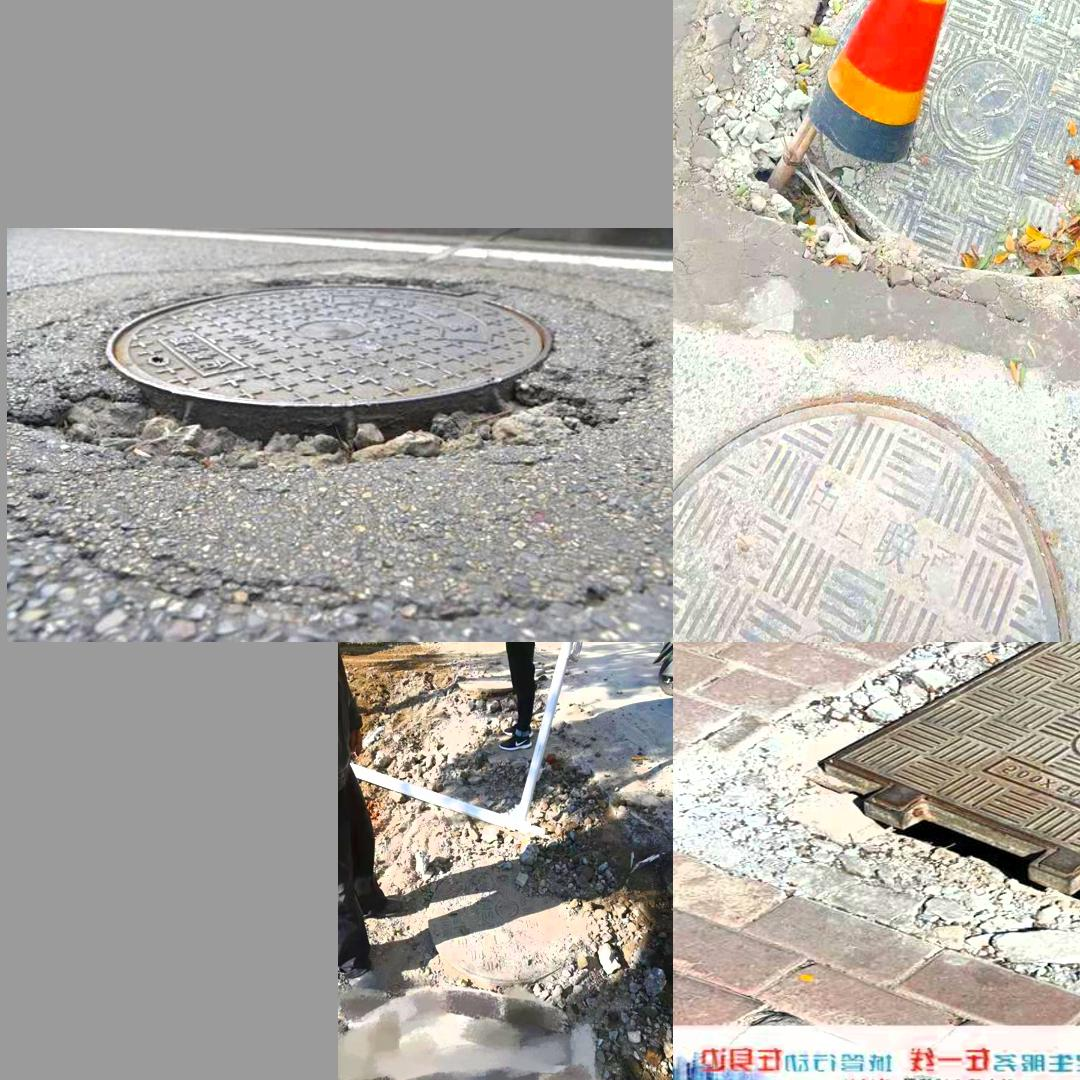circle: (682, 649, 1080, 1006), (30, 266, 650, 483), (781, 0, 1080, 279), (406, 855, 617, 1010)
